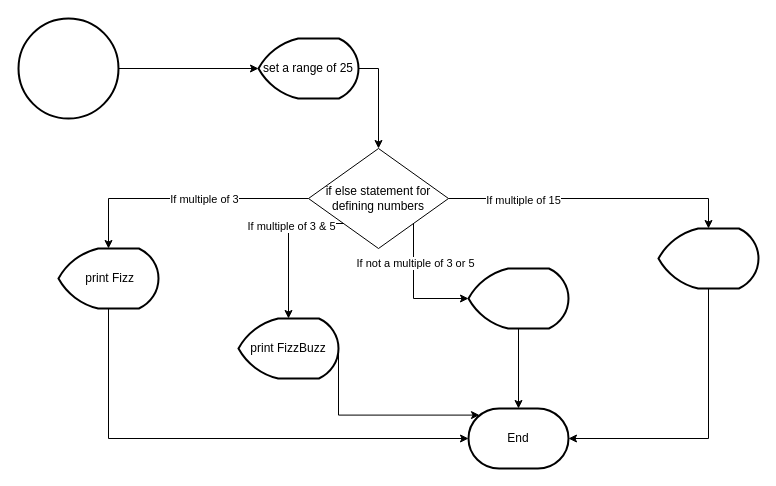
Image size: 776x486. Some labels were removed from this diagram. The box of each missing label's shape, as (x1, y1, x2, y2) in pixels:
print Buzz: (657, 227, 759, 289)
print number: (467, 267, 569, 329)
Start: (17, 17, 119, 119)
